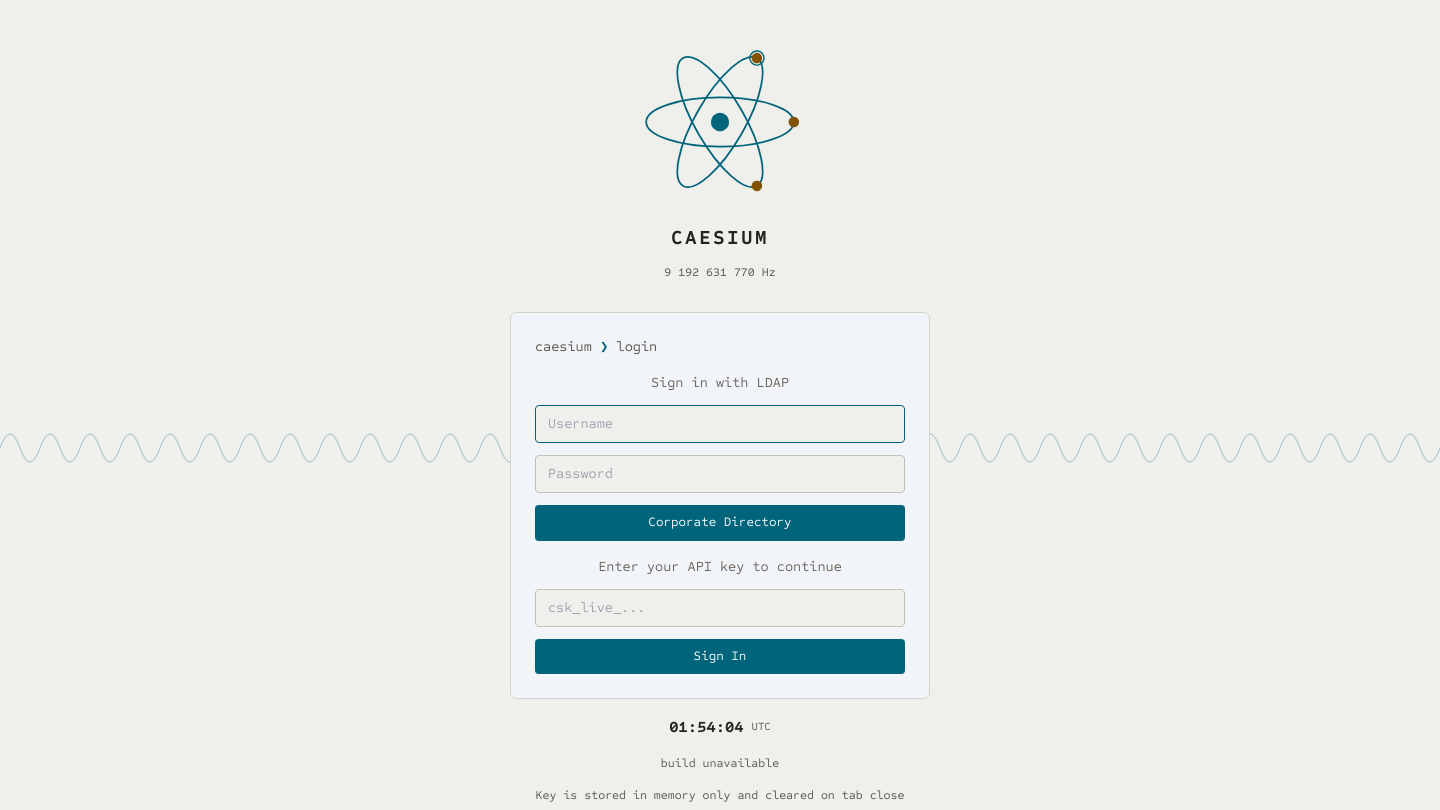
Test case: LoginPage › shows the no-binding message for an LDAP identity no binding grants a role
The width and height of the screenshot is (1440, 810).
In the field with placeholder "Username": (720,424) [535, 405, 905, 443], type "carol"
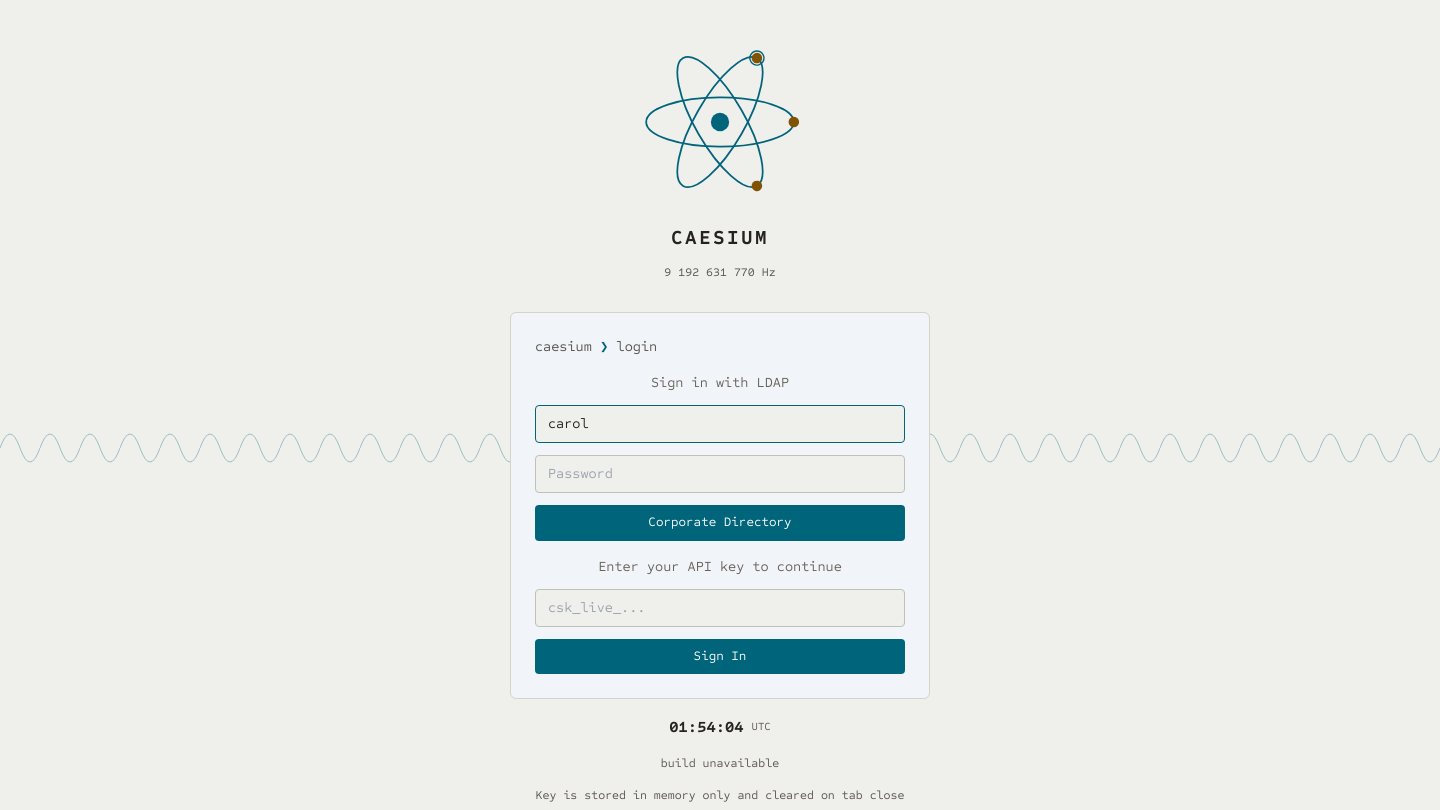
In the password field with placeholder "Password": (720,474) [535, 455, 905, 493], type "secret"
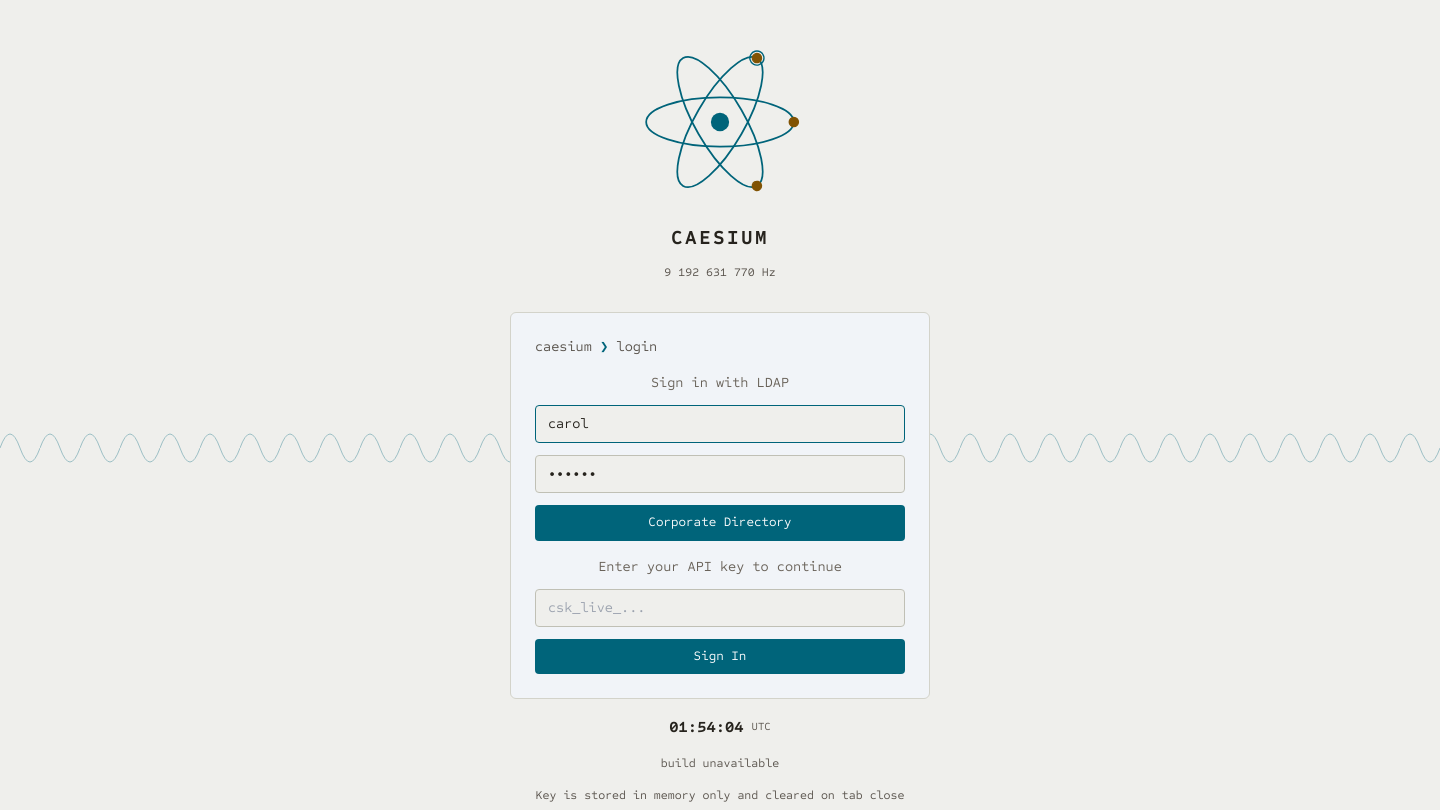
Click the button "Corporate Directory": (720,523) [535, 505, 905, 540]
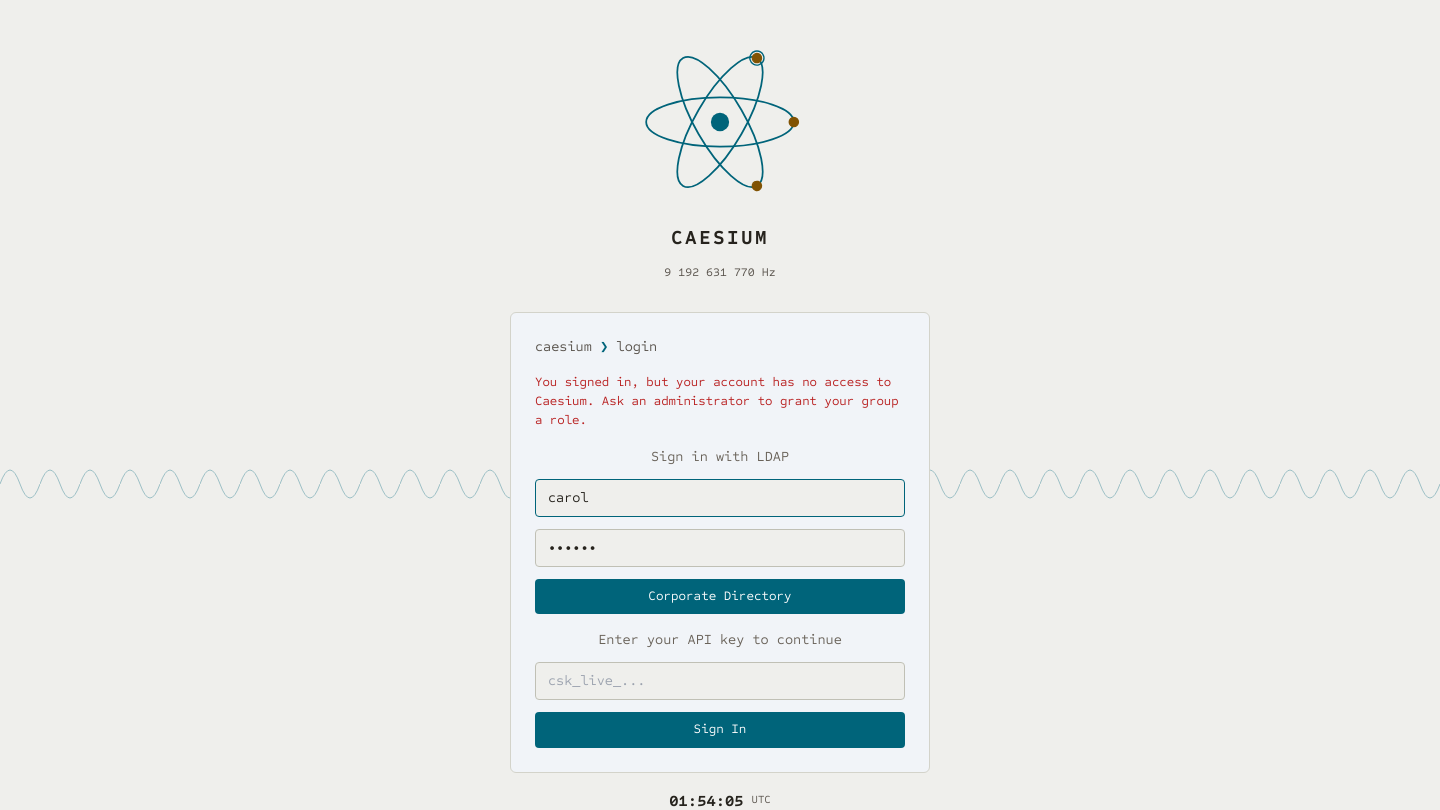
Expected: the message shows "has no access to Caesium", [535, 374, 899, 428]
